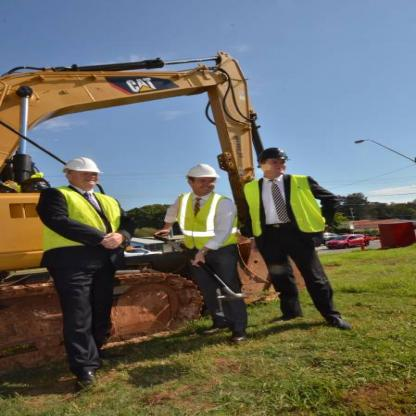person: (27, 150, 147, 392), (237, 136, 371, 336), (152, 148, 252, 351)
